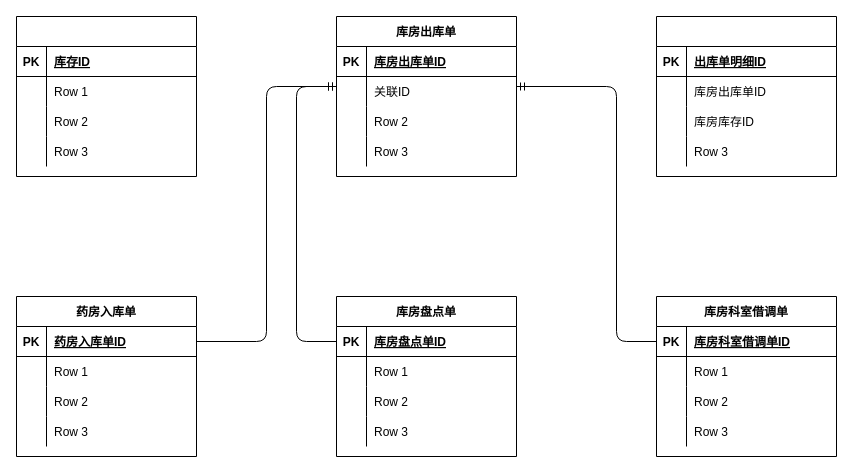
This 853x473 diagram has some shape labels left out. The shapes that lost their labels are listed below. From the top down, each one's box as (x1, y1, x2, y2) in pixels, then its label:
(16, 16, 196, 176): 库房库存
(656, 16, 836, 176): 库房出库明细
